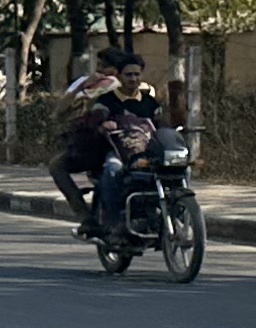BikeWithRider: (43, 44, 214, 287)
NoHelmet: (115, 53, 150, 91), (90, 44, 125, 81)
